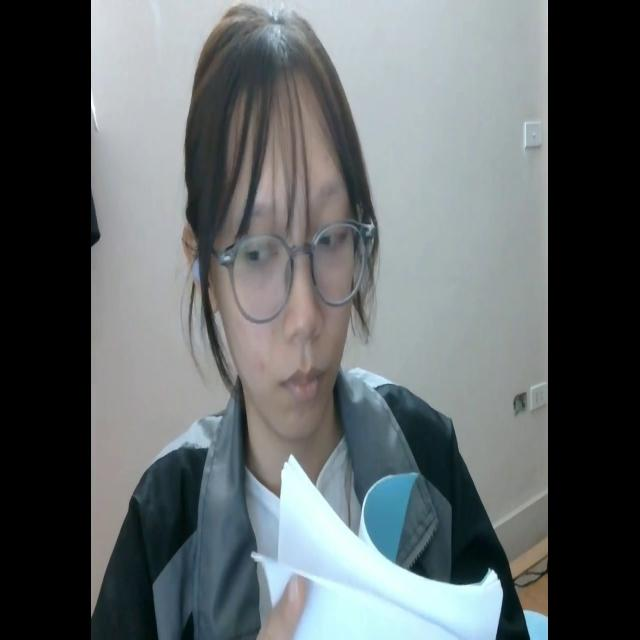book: (251, 446, 505, 640)
student: (111, 9, 527, 640)
